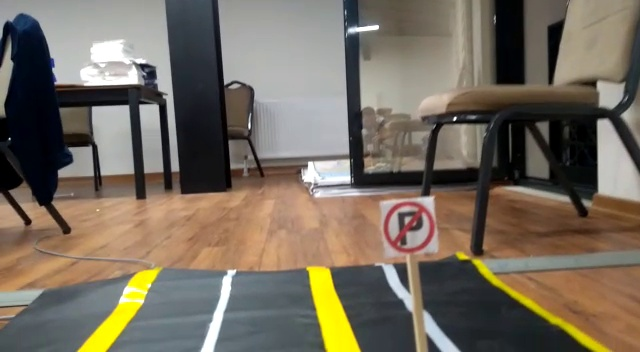park_yapilmaz: (381, 198, 436, 255)
